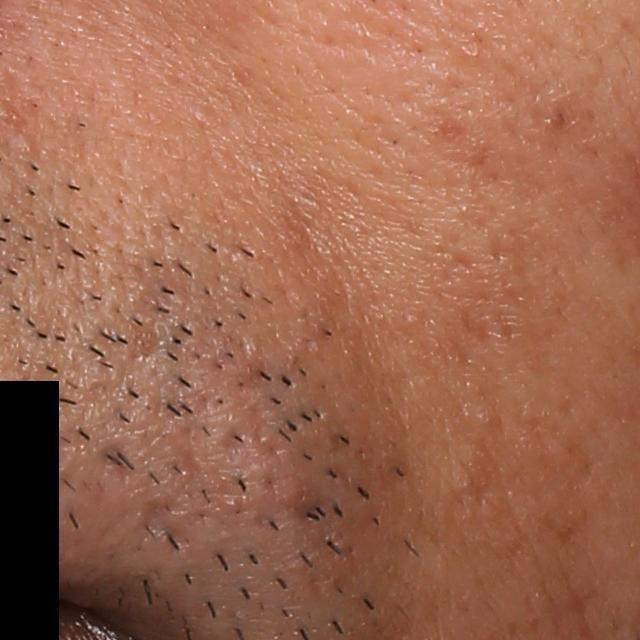atrophic_scar: (133, 494, 197, 552), (96, 443, 138, 485)
